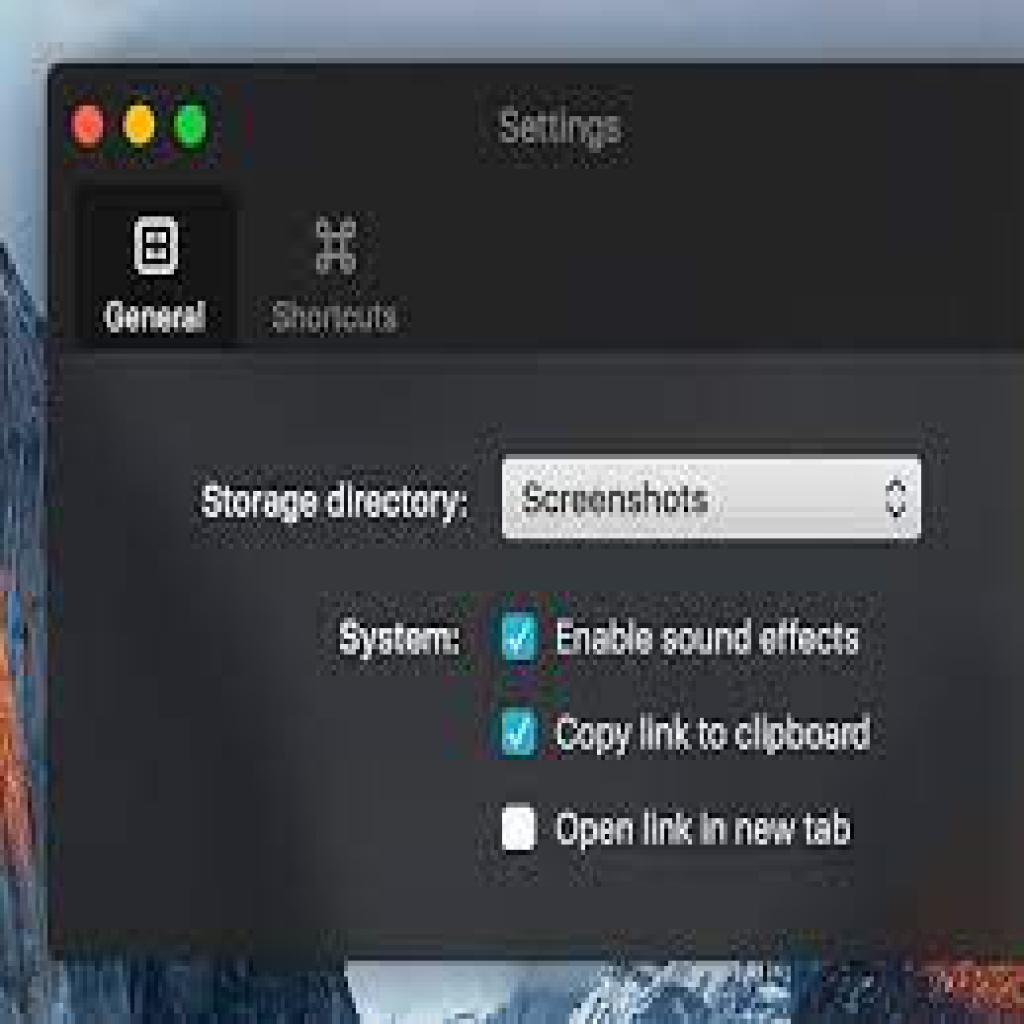checkbox: (500, 709, 541, 759), (500, 614, 540, 662), (503, 803, 540, 852)
dropdown: (503, 456, 922, 541)
